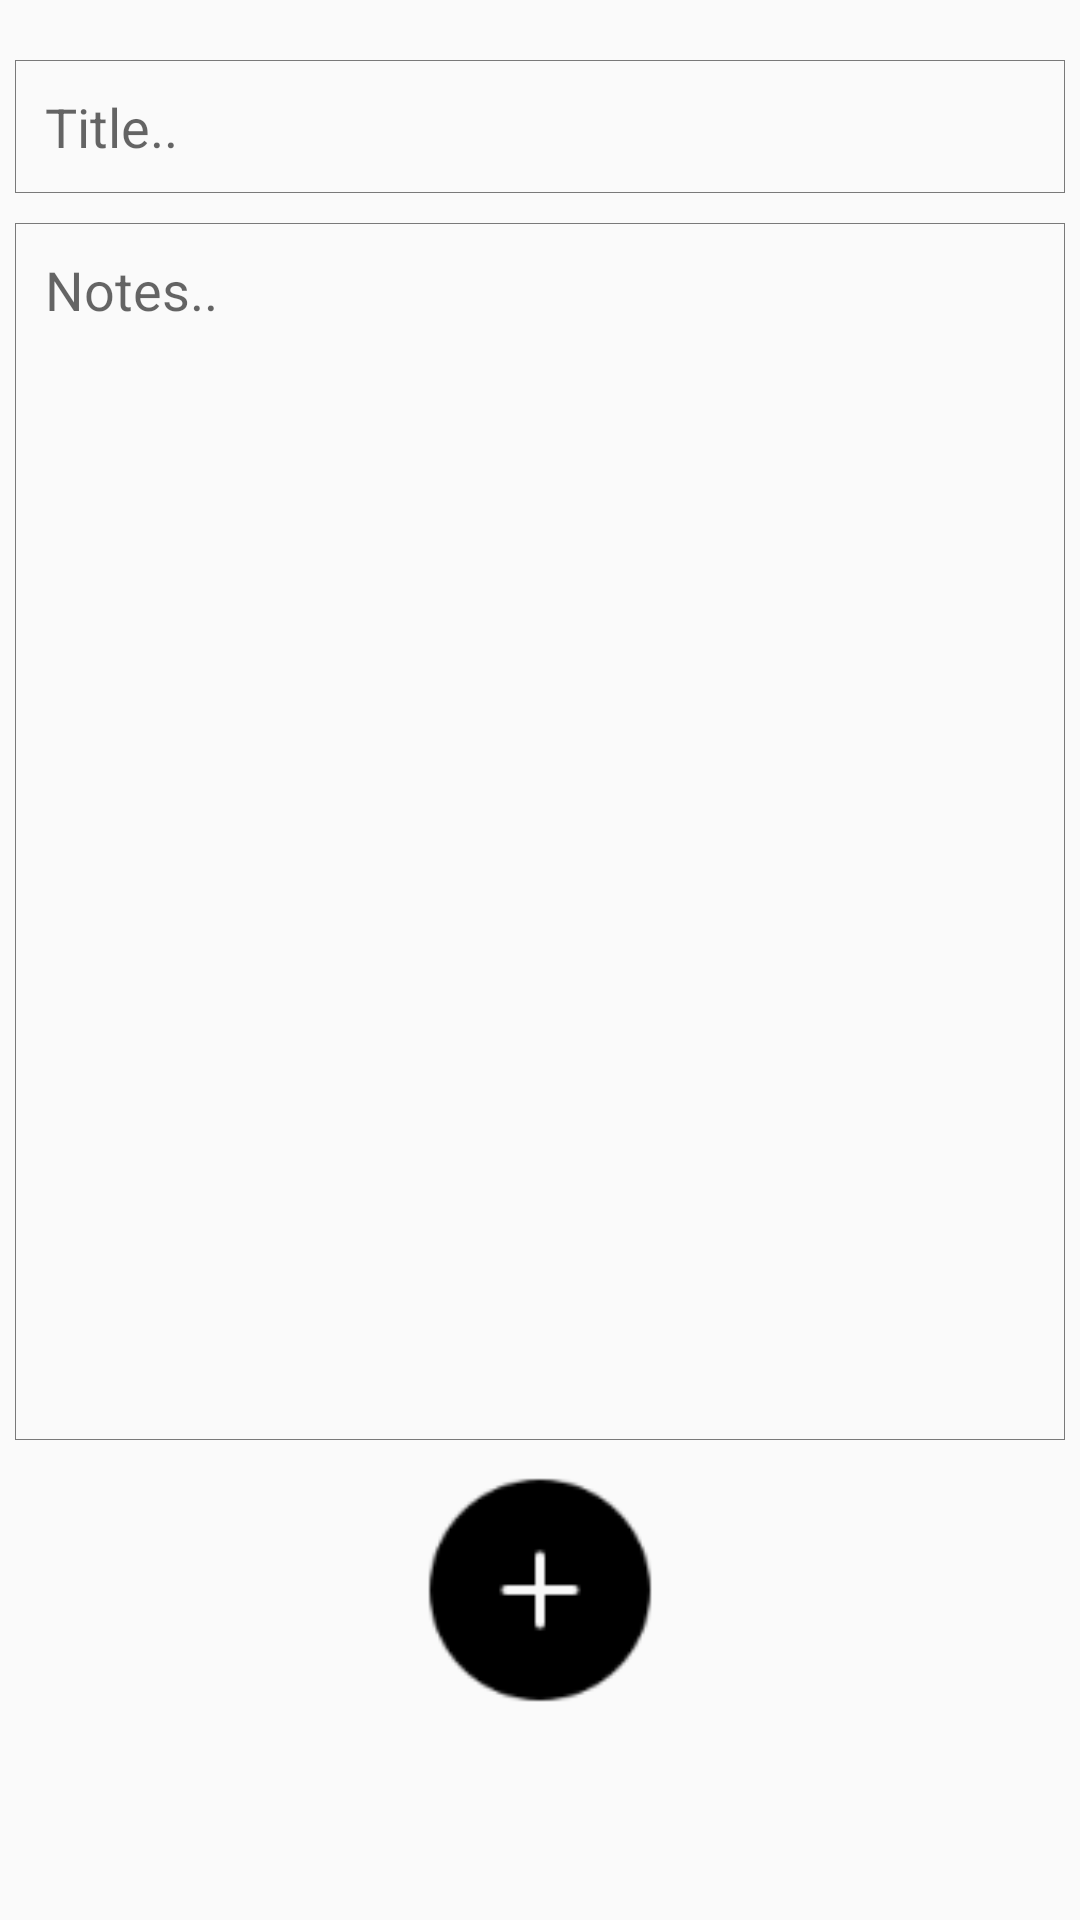

Icons on this 1080 × 1920 Android screen, each with the point to tap as (x=x, y=y):
Add new note: (x=540, y=1590)
